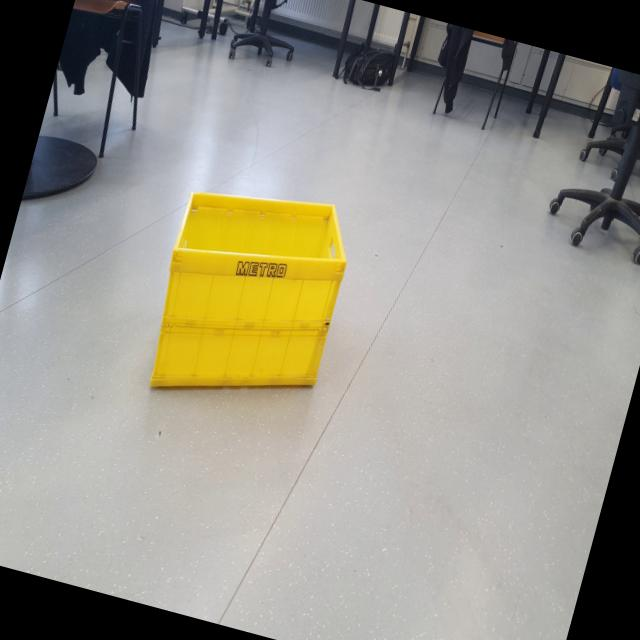box: (126, 162, 368, 434)
